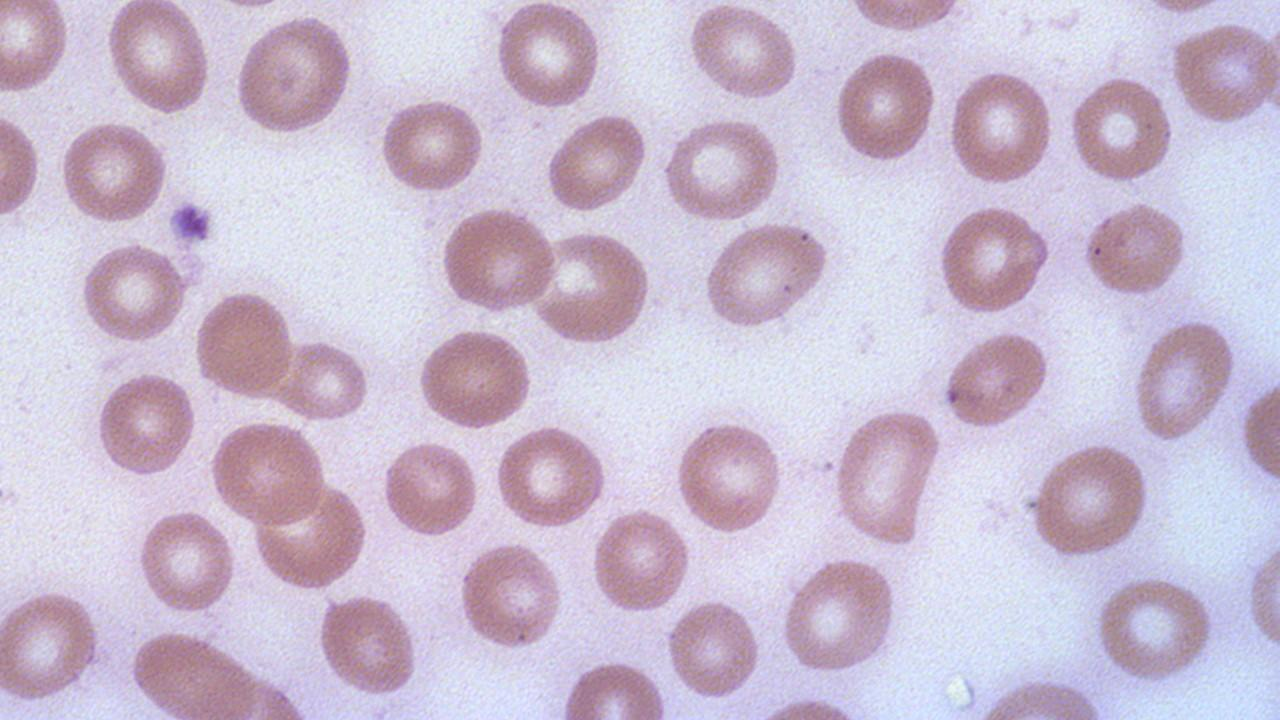Platelets: (167, 198, 215, 247)
RBC: (830, 404, 944, 548), (700, 218, 838, 332), (527, 227, 656, 346), (233, 12, 354, 138), (777, 554, 898, 678), (1030, 441, 1154, 560), (671, 414, 788, 536), (659, 114, 787, 225), (1130, 316, 1238, 443), (935, 201, 1052, 318), (944, 65, 1056, 187), (1093, 574, 1217, 684), (438, 204, 558, 316), (248, 481, 368, 592), (830, 47, 940, 168), (103, 1, 215, 118), (208, 418, 328, 526), (414, 326, 536, 432), (493, 422, 609, 530), (55, 119, 172, 225), (457, 540, 566, 653), (127, 625, 258, 719), (0, 586, 103, 704), (494, 1, 604, 111), (1067, 74, 1175, 186), (191, 288, 297, 400), (77, 240, 189, 346), (93, 368, 199, 480), (314, 590, 421, 698), (1167, 21, 1277, 126), (940, 328, 1053, 430), (686, 3, 800, 104), (136, 508, 239, 618), (1081, 199, 1195, 298), (543, 110, 649, 216), (590, 506, 692, 616), (376, 95, 488, 195), (663, 594, 764, 704), (379, 436, 480, 542), (268, 334, 374, 422), (0, 0, 72, 99), (556, 656, 670, 716), (968, 673, 1115, 719), (1236, 371, 1280, 493), (0, 105, 43, 224), (1244, 528, 1280, 658), (841, 1, 968, 33)
